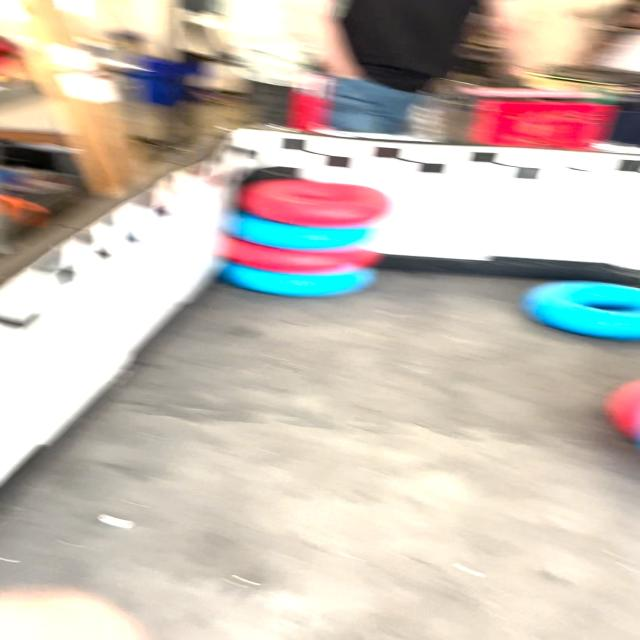Blue-Ring: (522, 281, 640, 340), (224, 211, 371, 250), (220, 264, 376, 296)
Red-Ring: (240, 179, 389, 228), (218, 235, 382, 274)
